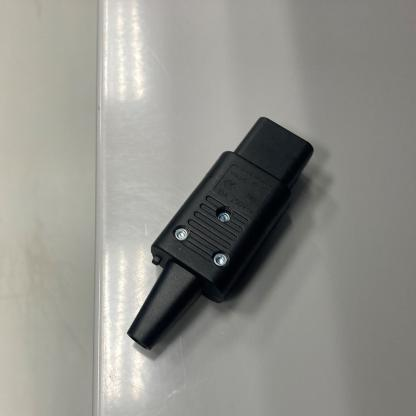SP0000006: (56, 65, 346, 401)
